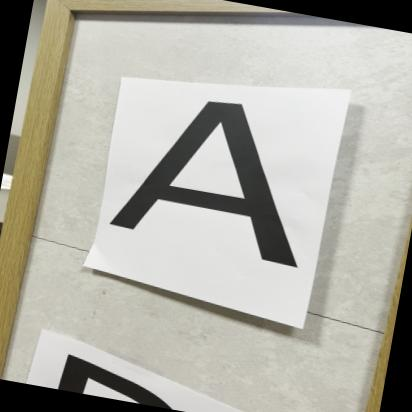seat: (106, 77, 328, 285)
